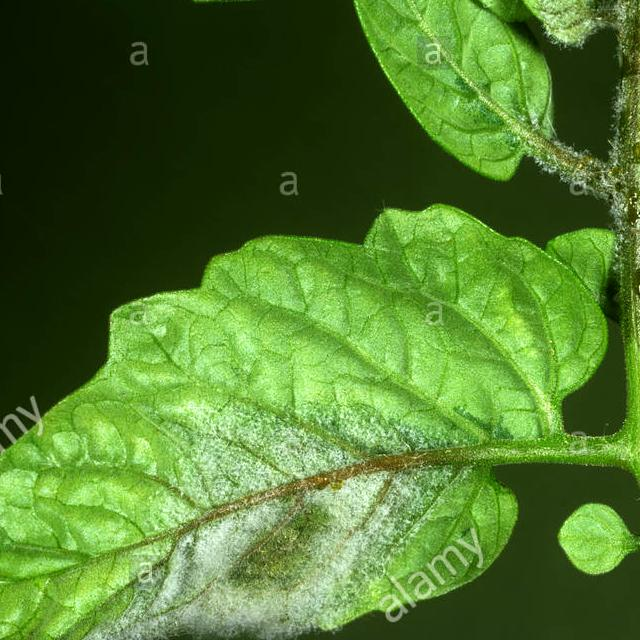Tomato leaf late blight: (0, 183, 640, 640), (534, 583, 640, 640)
